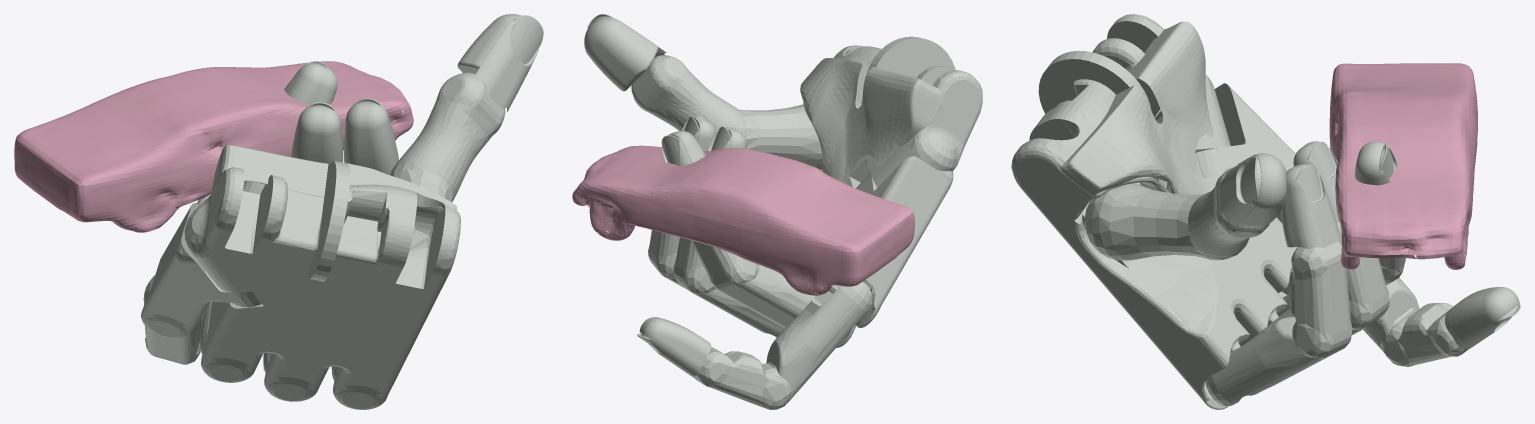
3 renders of one model, left to right at view 1: azimuth 30°, elevation 25°; view 2: azimuth 150°, elevation 25°; view 3: azimuth 270°, elevation 25°, orthographic. The views are drawn at different scales.
Parts seen in each view (by area): view 1: hand, world; view 2: hand, world; view 3: hand, world.
Boxes of the visible parts, bbox=[...] form: hand: bbox=[141, 14, 543, 409]; world: bbox=[14, 61, 413, 232]; hand: bbox=[584, 14, 982, 409]; world: bbox=[572, 145, 914, 295]; hand: bbox=[1011, 14, 1520, 409]; world: bbox=[1329, 63, 1477, 269].
Bounding box in the file's own units: 0.1589 × 0.121 × 0.1662.
